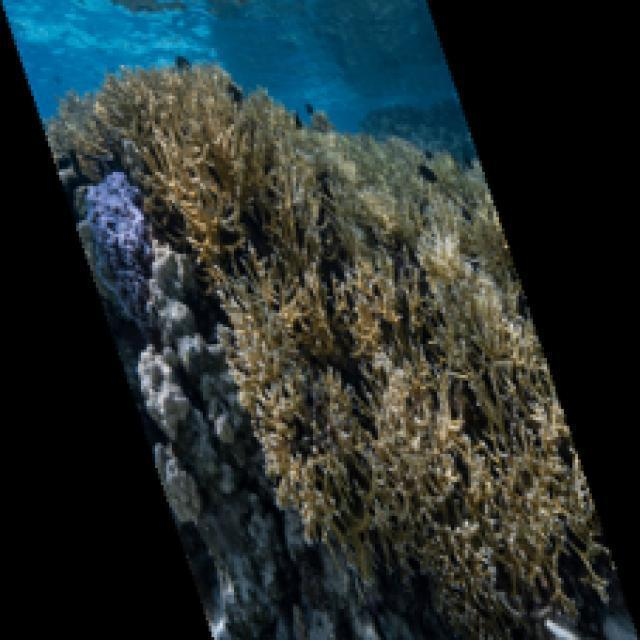Dead Coral: (235, 220, 440, 549), (401, 392, 590, 640), (134, 63, 320, 279)
